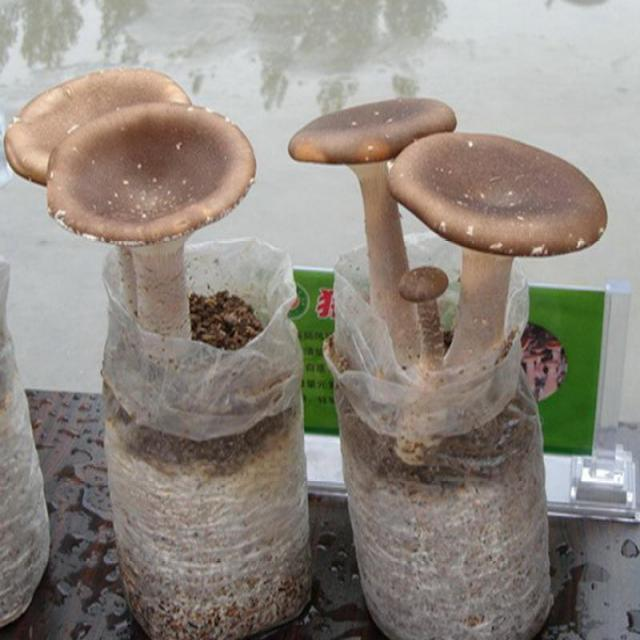Clitocybe maxima: (14, 71, 256, 360), (392, 134, 605, 380), (285, 98, 458, 369), (397, 263, 457, 361)
